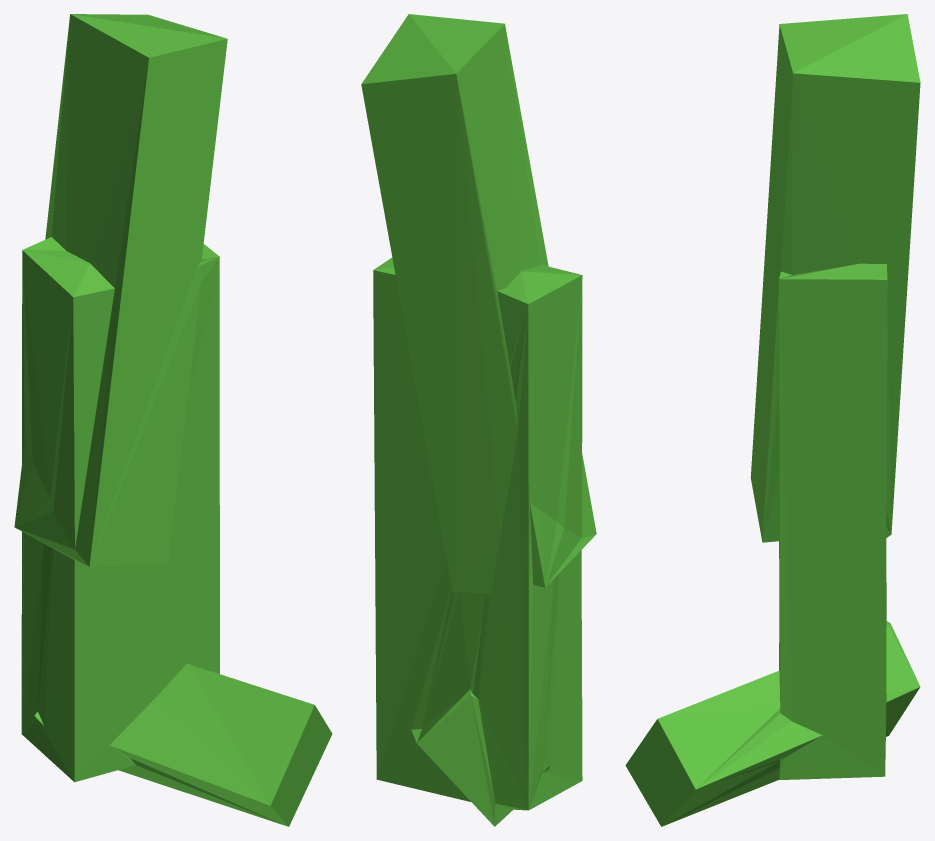
3 renders of one model, left to right at view 1: azimuth 30°, elevation 25°; view 2: azimuth 150°, elevation 25°; view 3: azimuth 270°, elevation 25°, orthographic. The views are drawn at different scales.
Visible parts, largest first — view 1: 220_Cube.904; view 2: 220_Cube.904; view 3: 220_Cube.904.
Part boxes in pixels (x1=…): 220_Cube.904: x1=14, y1=14, x2=332, y2=826; 220_Cube.904: x1=361, y1=14, x2=596, y2=826; 220_Cube.904: x1=625, y1=14, x2=920, y2=826.
Size of the model in its own units: 5.87 by 18.33 by 6.42.
